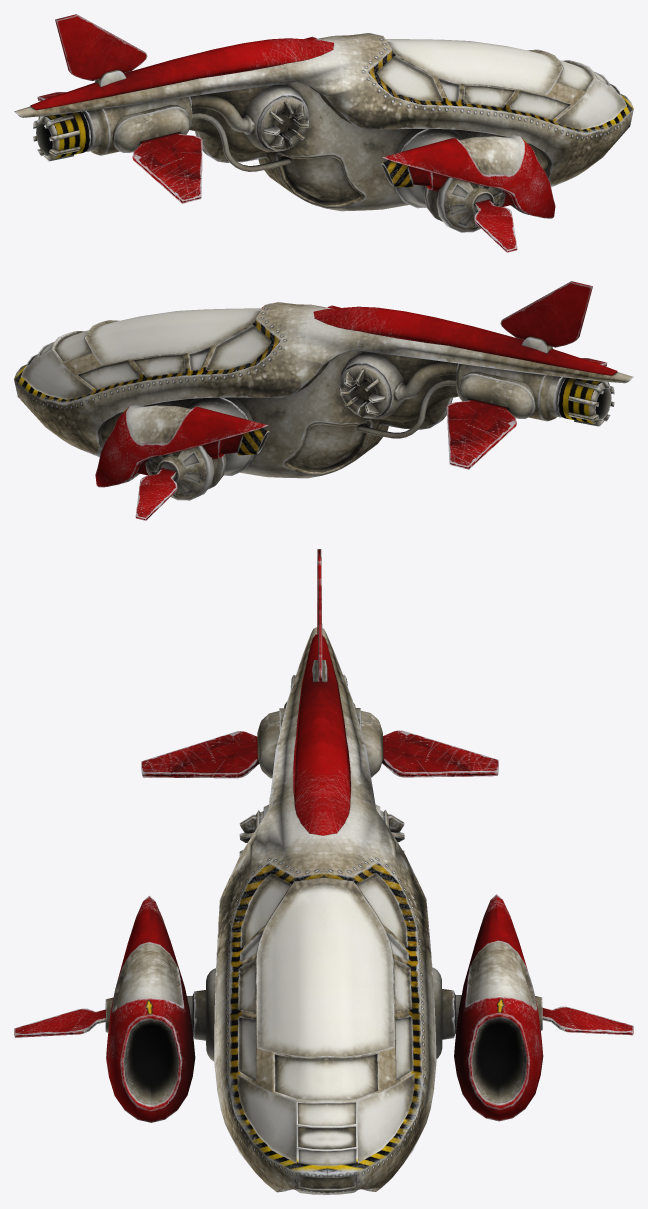
3 renders of one model, top to bottom at view 1: azimuth 30°, elevation 25°; view 2: azimuth 150°, elevation 25°; view 3: azimuth 270°, elevation 25°, orthographic. The views are drawn at different scales.
Visible parts, largest first — view 1: node_id37; view 2: node_id37; view 3: node_id37.
Boxes of the visible parts, x1,y1,x2,y2 form: node_id37: (14, 14, 633, 252); node_id37: (14, 281, 633, 520); node_id37: (14, 549, 633, 1194).
Bounding box in the file's own units: 0.512 × 0.2092 × 0.3567.
Materials: 1 (1 with a texture image).
